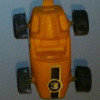naranja_sur: (14, 1, 91, 98)
